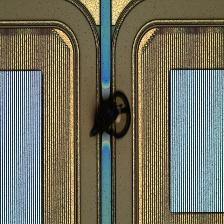PARTICLE: (80, 88, 139, 146)
